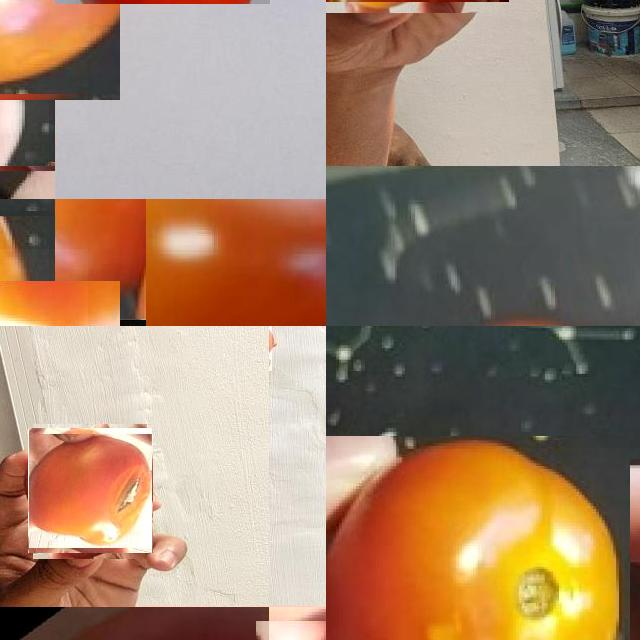Fresh Tomato: (326, 447, 640, 640), (146, 199, 326, 326)
Rotten Tomato: (28, 429, 153, 553)
